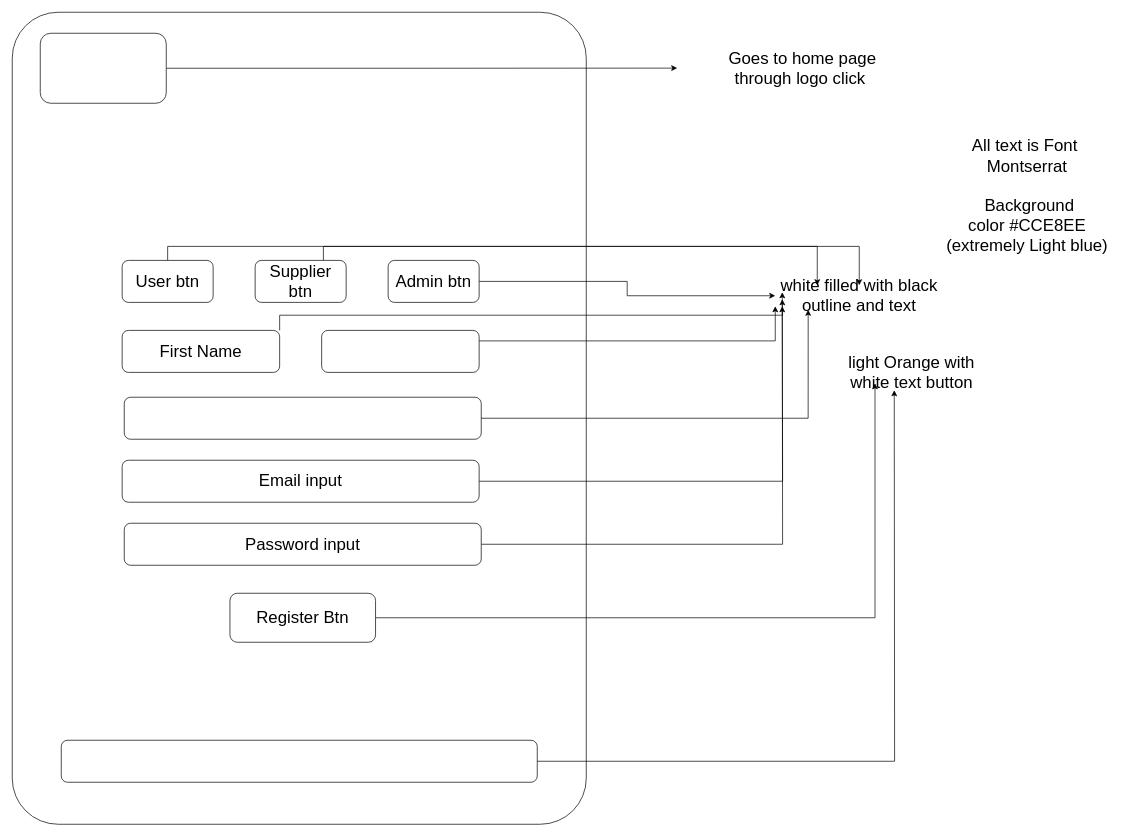
Image size: 1124x837. Some labels were removed from this diagram. The shapes that lost their labels are listed below. From the top down, each one's centre as x and y in pixels, then its label:
At [103,68]: "IMG BTN Logo".
At [400,351]: "Last Name".
At [302,418]: "Supplier Company name input".
At [299,761]: "Login Instead Btn".
